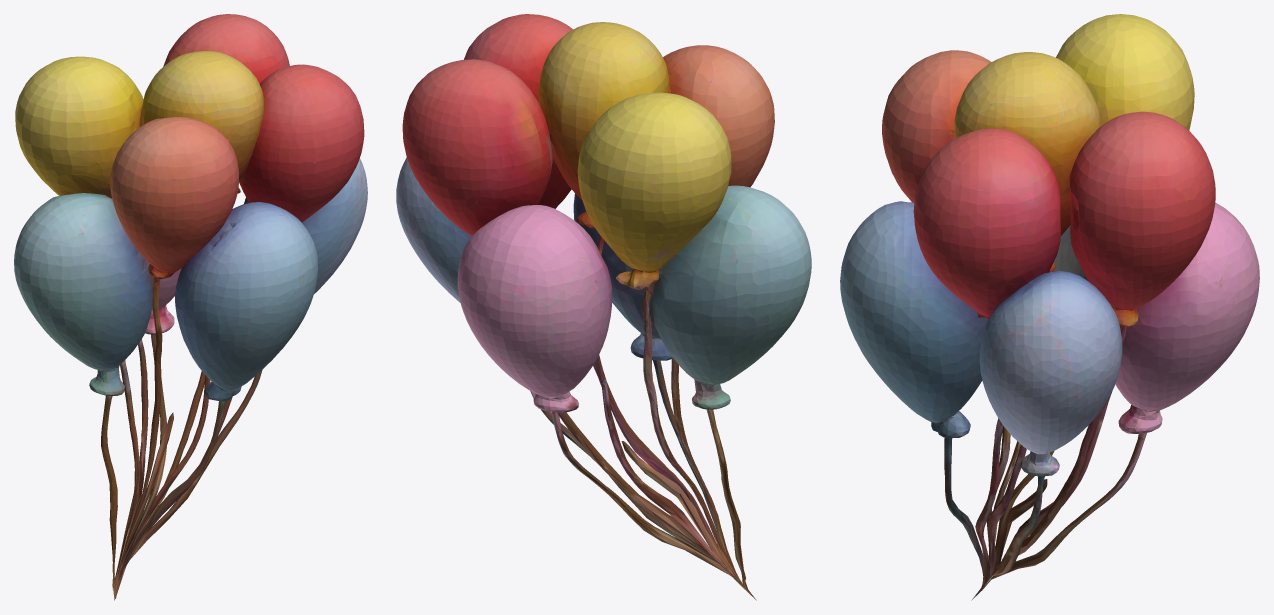
File: balloon_bunch.glb
3 renders of one model, left to right at view 1: azimuth 30°, elevation 25°; view 2: azimuth 150°, elevation 25°; view 3: azimuth 270°, elevation 25°, orthographic. The views are drawn at different scales.
Parts seen in each view (by area): view 1: geometry_0.005; view 2: geometry_0.005; view 3: geometry_0.005.
Part boxes in pixels (x1=…): geometry_0.005: x1=14, y1=14, x2=367, y2=600; geometry_0.005: x1=396, y1=14, x2=811, y2=600; geometry_0.005: x1=840, y1=14, x2=1259, y2=600.
Bounding box in the file's own units: 0.6598 × 0.9 × 0.564.
1 material, 1 textured.
